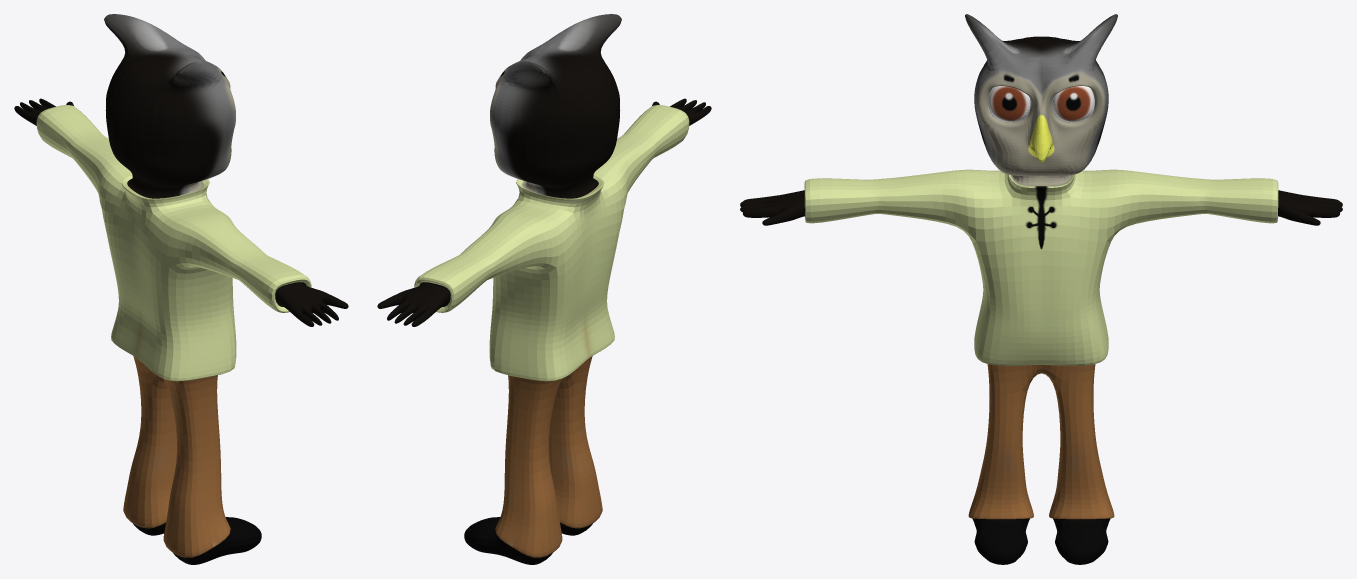
Rendered from NPC4.fbx.
3 renders of one model, left to right at view 1: azimuth 30°, elevation 25°; view 2: azimuth 150°, elevation 25°; view 3: azimuth 270°, elevation 25°, orthographic.
Parts seen in each view (by area): view 1: NPC4; view 2: NPC4; view 3: NPC4.
Part boxes in pixels (left/top/right/bottom): NPC4: left=14, top=14, right=348, bottom=564; NPC4: left=377, top=14, right=711, bottom=564; NPC4: left=740, top=14, right=1342, bottom=564.
Bounding box in the file's own units: 53.99 × 209 × 223.
1 material, 1 textured.
